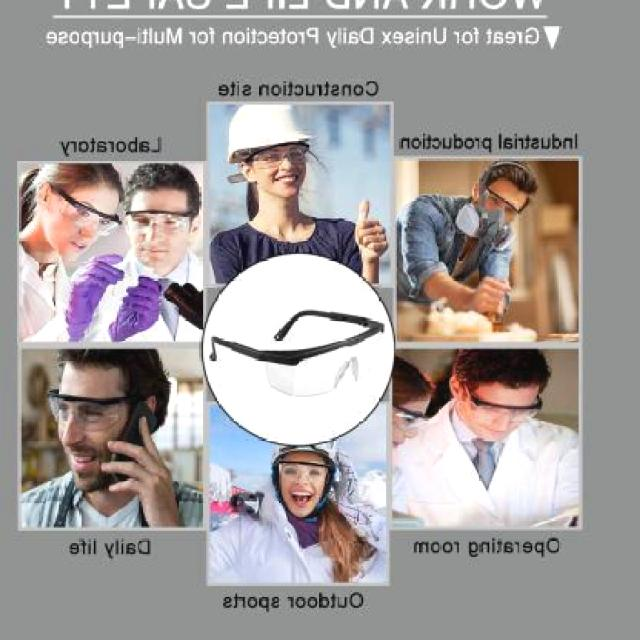face_nomask: (52, 400, 117, 475), (466, 397, 540, 441), (136, 213, 190, 261), (61, 202, 114, 250), (257, 147, 306, 191), (282, 463, 328, 509)
glasses: (202, 317, 392, 398), (53, 183, 121, 240), (48, 387, 129, 433), (465, 390, 543, 425), (127, 209, 201, 236), (275, 457, 337, 488), (482, 187, 523, 227), (252, 142, 312, 169)
hand_glove: (63, 249, 126, 322), (108, 268, 167, 341)
hand_noglove: (101, 411, 182, 503), (351, 198, 391, 257), (473, 268, 516, 321)
head_helmet: (221, 98, 314, 158)
head_nohelmet: (439, 347, 556, 393), (53, 343, 158, 391), (122, 160, 205, 206), (486, 158, 539, 190)
